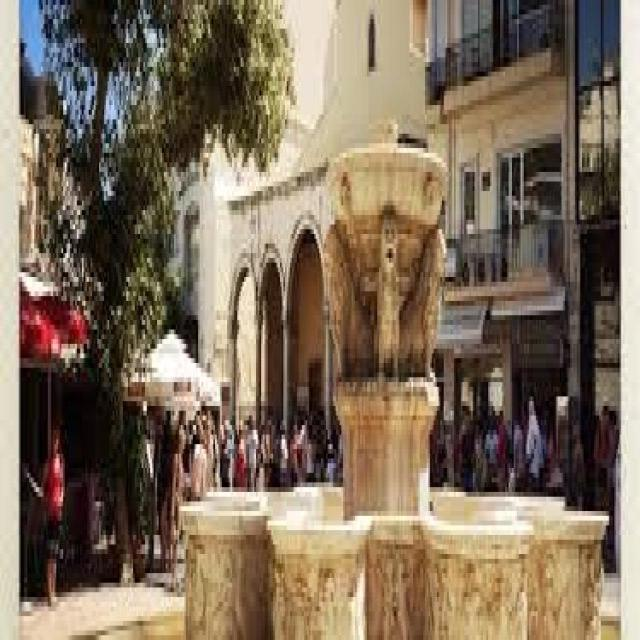Liontaria: (184, 150, 614, 639)
